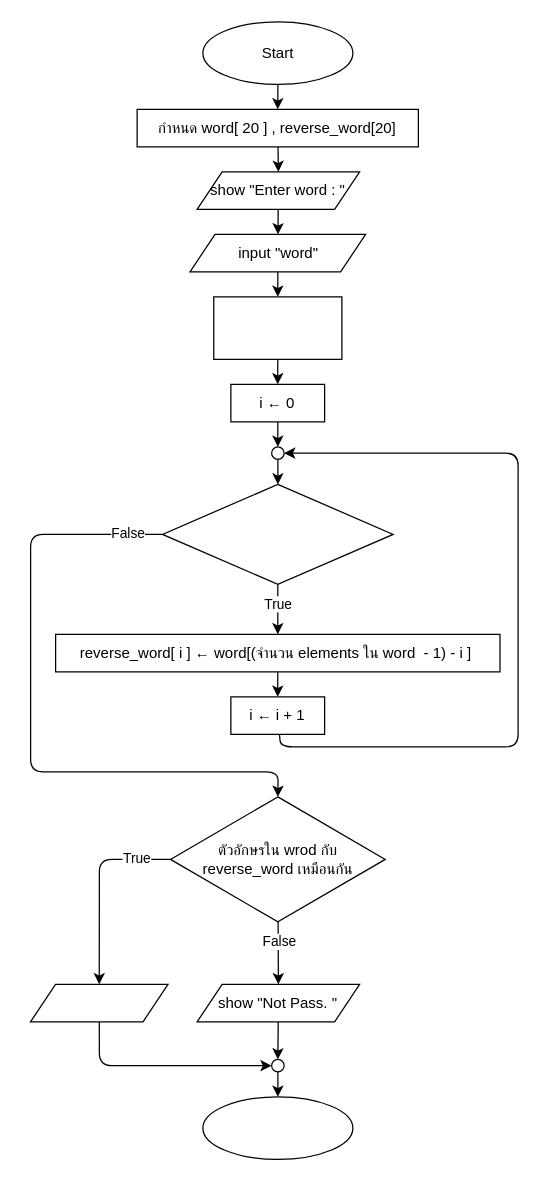
The diagram is 550 pixels wide and 1181 high, and some of its shapes have lost their labels. The centre of each missing label's shape, as x and y in pixels:
End: the point at 277,1127
i < จำนวน elements ใน word ?: the point at 277,533
show "Pass. ": the point at 98,1002
ให้คำใน word เป็น ตัวพิมพ์เล็กทุกตัว: the point at 277,327
